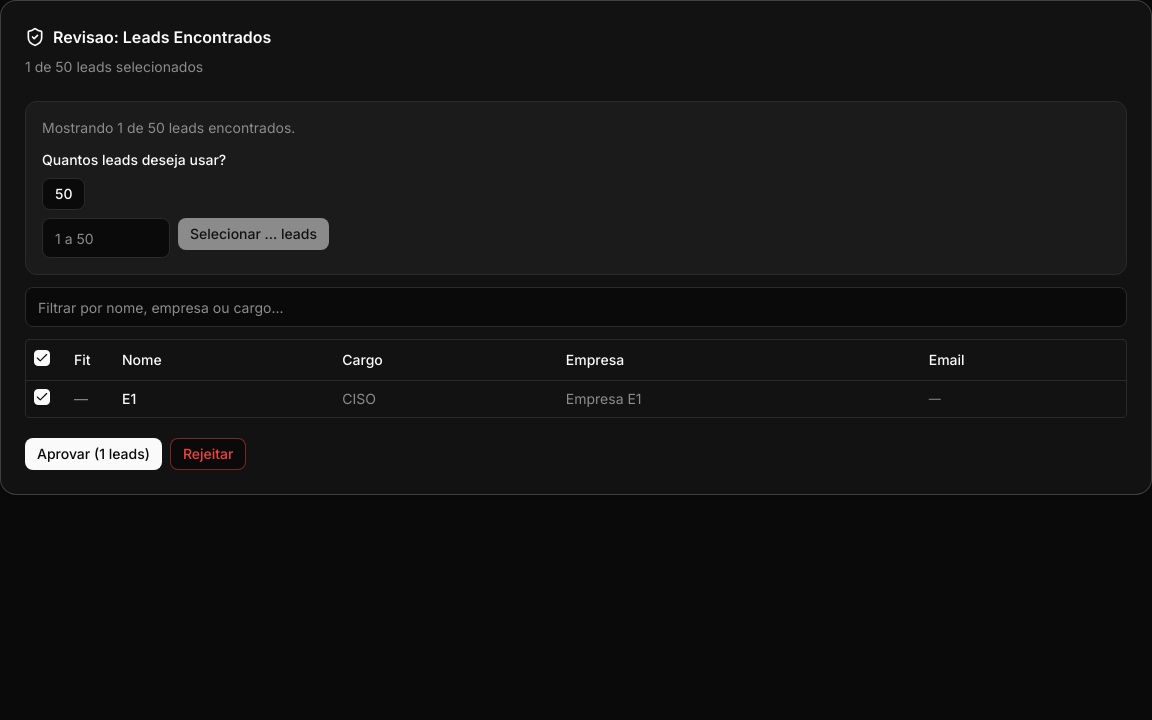
Test: AgentLeadReview — Story 24.15 triagem › Buscar mais: pre-seleciona so elegiveis e atualiza a linha de suprimidos
Type "5" into the number field with test id "lead-quantity-input". click: point(106, 238)
box: [42,218,170,258]
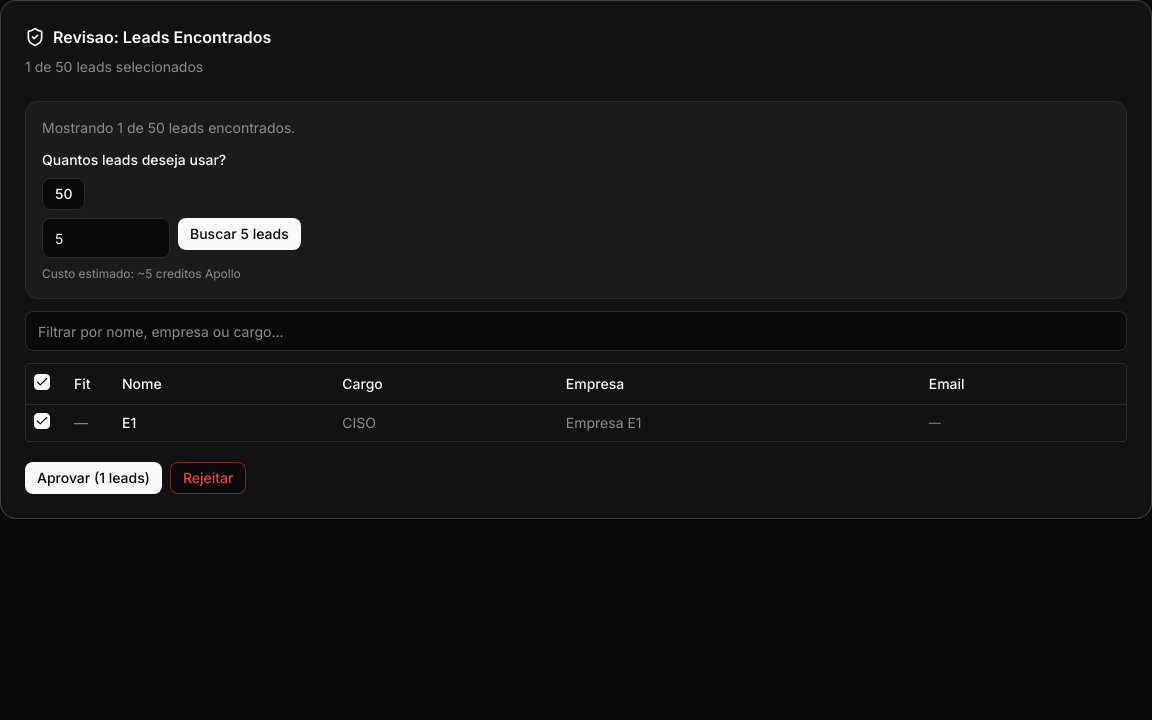
Click the button "Buscar 5 leads". click: point(239, 234)
box: [178,218,301,250]
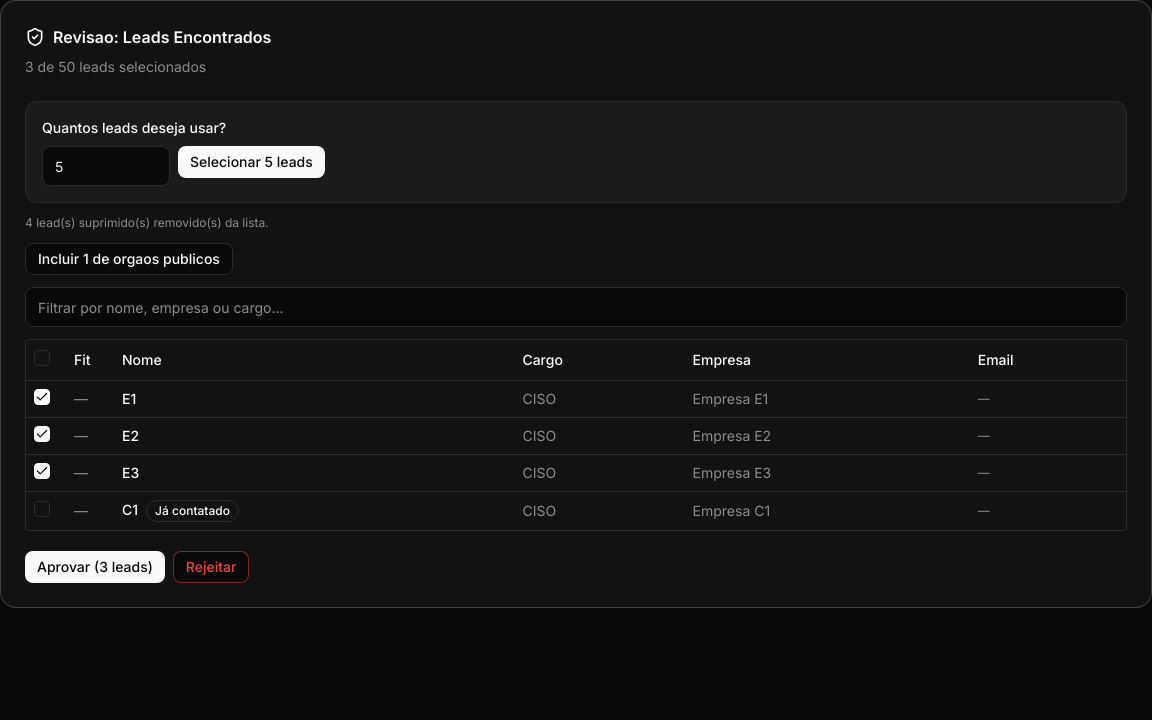
Expected: the text "3 de 50 leads selecionados" is shown, [25,58,206,75]
Expected: the text "4 lead(s) suprimido(s) removido(s) da lista." is shown, [25,215,269,230]
Expected: the button with test id "toggle-public-sector" reads "Incluir 1 de orgaos publicos", [25,243,233,275]
